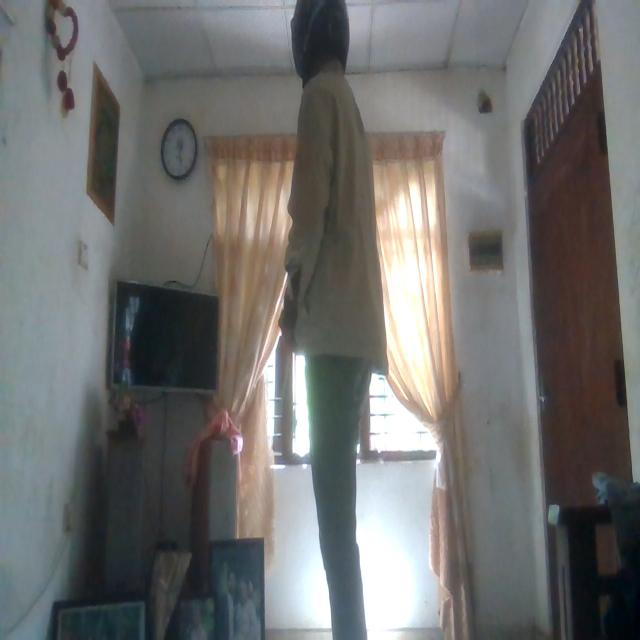Helmet_Wearer: (289, 0, 353, 72)
Jacket_Wearer: (282, 58, 390, 382)
Person: (286, 0, 395, 640)
